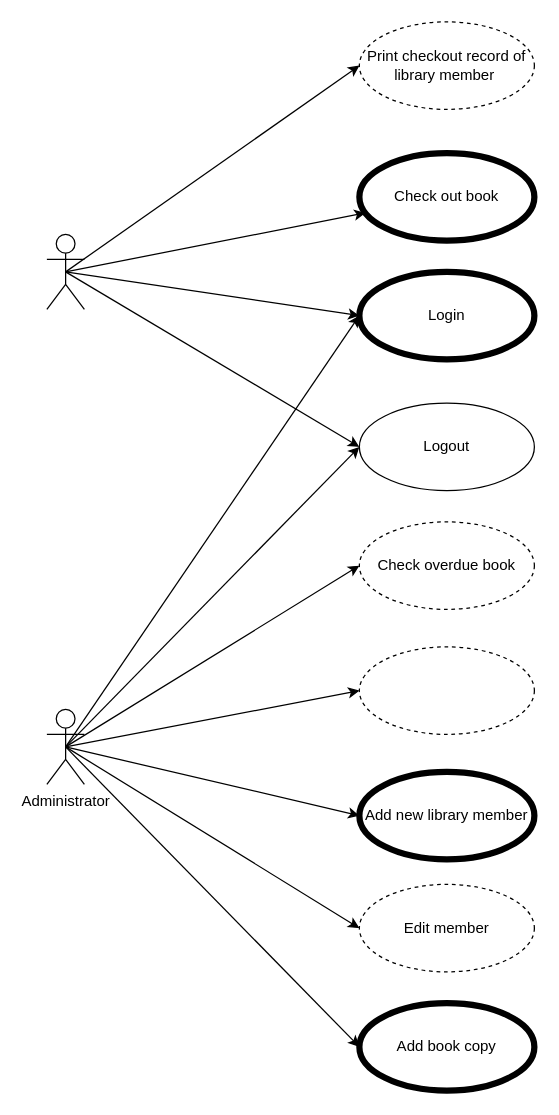
Some shapes in this 559 by 1115 pixel diagram are drawn without their labels. The box of each missing label's shape, as (x1, y1, x2, y2) in pixels:
Add new book: (358, 646, 534, 734)
Librarian: (46, 233, 84, 309)
